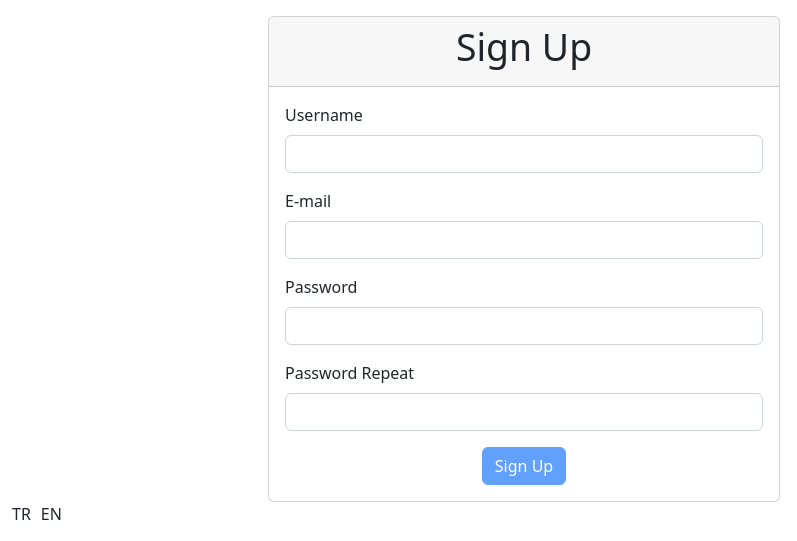
Test: Sign Up Page › Internationalization › displays all text in English after page is translated to Turkish
The image size is (797, 541).
Click the text titled "Türkçe": (21, 514) [12, 503, 31, 525]
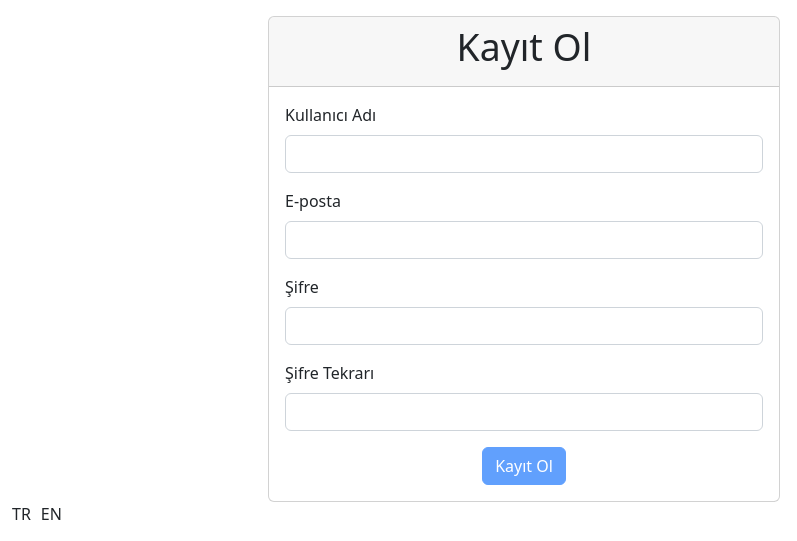
Click the text titled "English": (51, 514) [41, 503, 62, 525]
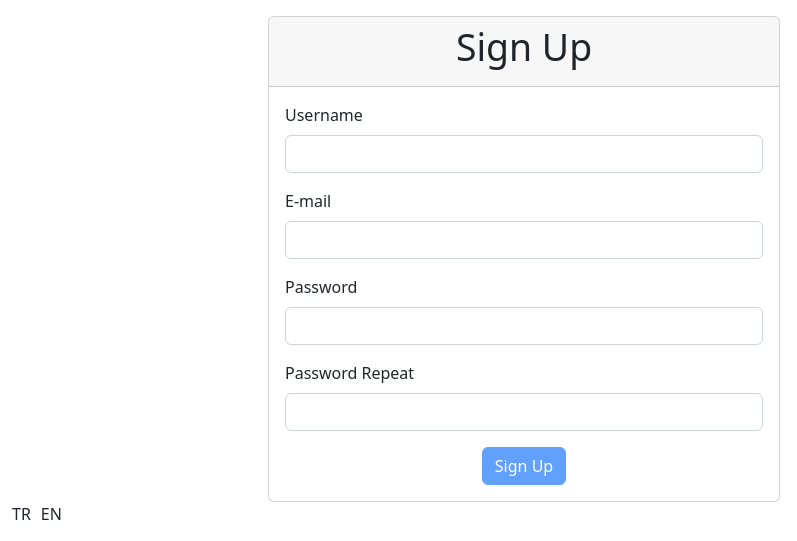
Expected: the field labelled "Username" is shown, [285, 135, 763, 173]
Now the heading "Sign Up" is shown, box [456, 21, 592, 72]
Now the button "Sign Up" is shown, box [482, 447, 566, 485]
